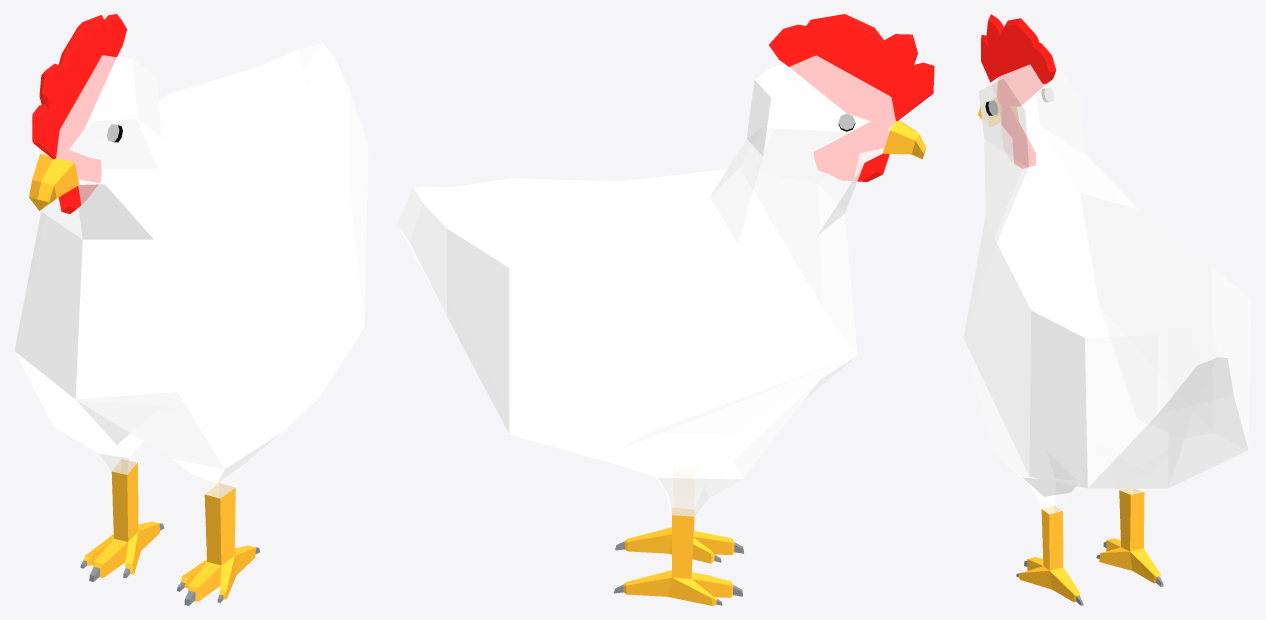
The model's file is MyChicken.glb.
The picture shows the model from 3 angles, left to right: view 1: azimuth 30°, elevation 25°; view 2: azimuth 150°, elevation 25°; view 3: azimuth 270°, elevation 25°; orthographic projection. The views are drawn at different scales.
Visible parts, largest first — view 1: Cube.005; view 2: Cube.005; view 3: Cube.005.
Boxes of the visible parts, left/top/right/bottom form: Cube.005: left=14, top=14, right=368, bottom=605; Cube.005: left=397, top=14, right=934, bottom=605; Cube.005: left=963, top=14, right=1251, bottom=605.
Bounding box in the file's own units: 4.4 × 5.82 × 3.01.
